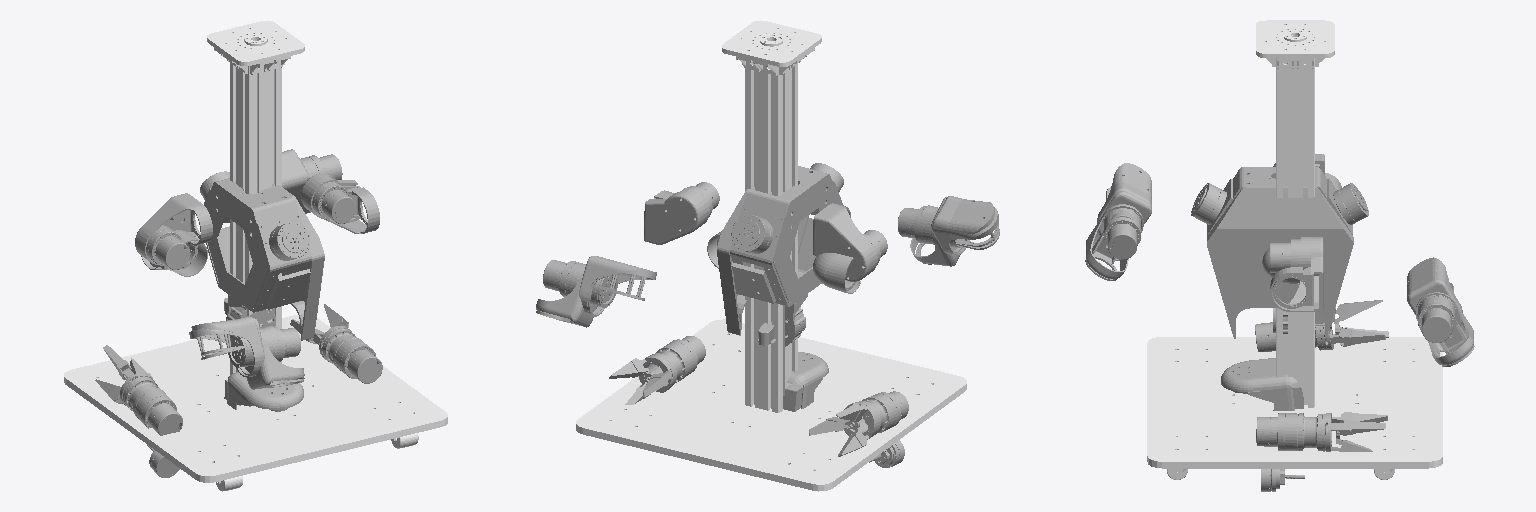
--- Facts derived from the render (not from the file) ---
3 views of the same robot in one strip: view 1: azimuth 30°, elevation 25°; view 2: azimuth 150°, elevation 25°; view 3: azimuth 270°, elevation 25° (orthographic).
Model URDF with 22 links and 21 joints (9 continuous, 12 fixed), rooted at ai, posed all joints at 0.
Visible links, largest first — view 1: ai, aia2, ail2, air2, ail7, air7, aia1, ail4, ail3, ail5, ail1, ail6; view 2: ai, aia2, ail2, air2, air7, ail7, ail5, air6, aia1, air3, ail1, ail3 (+5 smaller); view 3: ai, aia2, air7, air2, aia1, ail7, ail6, air4, ail5, air3, air6, ail4 (+2 smaller).
Boxes of the visible links, x1=… form: ai: x1=64, y1=20, x2=447, y2=491; aia2: x1=200, y1=171, x2=324, y2=340; ail2: x1=135, y1=193, x2=212, y2=269; air2: x1=301, y1=173, x2=379, y2=233; ail7: x1=95, y1=345, x2=182, y2=435; air7: x1=290, y1=304, x2=382, y2=383; aia1: x1=224, y1=372, x2=303, y2=411; ail4: x1=245, y1=326, x2=303, y2=389; ail3: x1=189, y1=316, x2=278, y2=374; ail5: x1=191, y1=318, x2=262, y2=376; ail1: x1=141, y1=230, x2=207, y2=276; ail6: x1=247, y1=326, x2=304, y2=388; ai: x1=576, y1=20, x2=966, y2=491; aia2: x1=717, y1=163, x2=843, y2=346; ail2: x1=813, y1=203, x2=887, y2=281; air2: x1=644, y1=182, x2=719, y2=244; air7: x1=609, y1=336, x2=705, y2=404; ail7: x1=809, y1=391, x2=908, y2=456; ail5: x1=931, y1=197, x2=998, y2=254; air6: x1=536, y1=260, x2=597, y2=327; aia1: x1=783, y1=352, x2=828, y2=411; air3: x1=579, y1=256, x2=650, y2=315; ail1: x1=813, y1=253, x2=860, y2=293; ail3: x1=921, y1=196, x2=999, y2=252; ai: x1=1147, y1=20, x2=1442, y2=479; aia2: x1=1191, y1=167, x2=1368, y2=338; air7: x1=1256, y1=412, x2=1387, y2=451; air2: x1=1270, y1=237, x2=1323, y2=311; aia1: x1=1221, y1=358, x2=1303, y2=410; ail7: x1=1255, y1=300, x2=1388, y2=351; ail6: x1=1085, y1=206, x2=1142, y2=280; air4: x1=1416, y1=292, x2=1469, y2=366; ail5: x1=1098, y1=163, x2=1151, y2=234; air3: x1=1408, y1=258, x2=1462, y2=334; air6: x1=1418, y1=292, x2=1474, y2=362; ail4: x1=1085, y1=204, x2=1143, y2=279.
Bounding box of the posed robot: 0.7047 × 0.7888 × 0.9228 m (x, y, z).
20 mesh visuals loaded from 22 distinct referenced files (20 binary STL); not drawn: 2 (reference not matched to a file when rendering).

robot.urdf — URDF:
<?xml version="1.0" encoding="utf-8"?>
<!-- This URDF was automatically created by SolidWorks to URDF Exporter! Originally created by Stephen Brawner ([email redacted]) 
     Commit Version: 1.6.0-4-g7f85cfe  Build Version: 1.6.7995.38578
     For more information, please see http://wiki.ros.org/sw_urdf_exporter -->
<robot
  name="URDF">
  <link
    name="ai">
    <inertial>
      <origin
        xyz="0.0096555 -0.14212 -0.038542"
        rpy="0 0 0" />
      <mass
        value="5.5457" />
      <inertia
        ixx="0.028923"
        ixy="-0.00050649"
        ixz="7.6006E-06"
        iyy="0.046711"
        iyz="0.00014985"
        izz="0.022605" />
    </inertial>
    <visual>
      <origin
        xyz="0 0 0"
        rpy="0 0 0" />
      <geometry>
        <mesh
          filename="package://URDF/meshes/ai.STL" />
      </geometry>
      <material
        name="">
        <color
          rgba="1 1 1 1" />
      </material>
    </visual>
    <collision>
      <origin
        xyz="0 0 0"
        rpy="0 0 0" />
      <geometry>
        <mesh
          filename="package://URDF/meshes/ai.STL" />
      </geometry>
    </collision>
  </link>
  <link
    name="aia1">
    <inertial>
      <origin
        xyz="0.0122165500894778 0.0631182438776054 -0.00692252450444186"
        rpy="0 0 0" />
      <mass
        value="3.50978575560884" />
      <inertia
        ixx="0.0107160246499877"
        ixy="-0.000359621582143605"
        ixz="4.07016624714828E-05"
        iyy="0.0124005795141034"
        iyz="-1.524781901073E-06"
        izz="0.012386384323181" />
    </inertial>
    <visual>
      <origin
        xyz="0 0 0"
        rpy="0 0 0" />
      <geometry>
        <mesh
          filename="package://URDF/meshes/aia1.STL" />
      </geometry>
      <material
        name="">
        <color
          rgba="0.752941176470588 0.752941176470588 0.752941176470588 1" />
      </material>
    </visual>
    <collision>
      <origin
        xyz="0 0 0"
        rpy="0 0 0" />
      <geometry>
        <mesh
          filename="package://URDF/meshes/aia1.STL" />
      </geometry>
    </collision>
  </link>
  <joint
    name="ia1"
    type="continuous">
    <origin
      xyz="-0.0079361 0.014041 -0.00022442"
      rpy="1.6815 -0.028271 0" />
    <parent
      link="ai" />
    <child
      link="aia1" />
    <axis
      xyz="0 0.99387 -0.11052" />
    <limit
      lower="0"
      upper="0"
      effort="0"
      velocity="0" />
  </joint>
  <link
    name="aia2">
    <inertial>
      <origin
        xyz="0.00275148999525586 0.0904963085395856 0.0206857738259683"
        rpy="0 0 0" />
      <mass
        value="11.5092978911004" />
      <inertia
        ixx="0.0488817529527658"
        ixy="0.000298183073814911"
        ixz="3.87850448289944E-07"
        iyy="0.0789799485369125"
        iyz="-0.00122753004573844"
        izz="0.111894811595064" />
    </inertial>
    <visual>
      <origin
        xyz="0 0 0"
        rpy="0 0 0" />
      <geometry>
        <mesh
          filename="package://URDF/meshes/aia2.STL" />
      </geometry>
      <material
        name="">
        <color
          rgba="0.752941176470588 0.752941176470588 0.752941176470588 1" />
      </material>
    </visual>
    <collision>
      <origin
        xyz="0 0 0"
        rpy="0 0 0" />
      <geometry>
        <mesh
          filename="package://URDF/meshes/aia2.STL" />
      </geometry>
    </collision>
  </link>
  <joint
    name="ia2"
    type="fixed">
    <origin
      xyz="2.93308576122722E-05 0.188056300534155 -0.0208868045568571"
      rpy="-0.110744460506445 0 0" />
    <parent
      link="aia1" />
    <child
      link="aia2" />
    <axis
      xyz="0 0 1" />
    <limit
      lower="0"
      upper="0"
      effort="0"
      velocity="0" />
  </joint>
  <link
    name="air1">
    <inertial>
      <origin
        xyz="-0.0867882598030639 0.0501262855873437 -0.00496010592416558"
        rpy="0 0 0" />
      <mass
        value="0.704319744476176" />
      <inertia
        ixx="0.00102192742218782"
        ixy="5.18316851700758E-05"
        ixz="-0.000164786809473083"
        iyy="0.00108196027992708"
        iyz="9.54818424027483E-05"
        izz="0.00117996029784948" />
    </inertial>
    <visual>
      <origin
        xyz="0 0 0"
        rpy="0 0 0" />
      <geometry>
        <mesh
          filename="package://URDF/meshes/air1.STL" />
      </geometry>
      <material
        name="">
        <color
          rgba="0.752941176470588 0.752941176470588 0.752941176470588 1" />
      </material>
    </visual>
    <collision>
      <origin
        xyz="0 0 0"
        rpy="0 0 0" />
      <geometry>
        <mesh
          filename="package://URDF/meshes/air1.STL" />
      </geometry>
    </collision>
  </link>
  <joint
    name="ir1"
    type="continuous">
    <origin
      xyz="0.0971134252482515 0.153771425983859 0"
      rpy="-3.14159265358979 0 3.14159265358978" />
    <parent
      link="aia2" />
    <child
      link="air1" />
    <axis
      xyz="0.866025403784438 -0.5 0" />
    <limit
      lower="0"
      upper="0"
      effort="0"
      velocity="0" />
  </joint>
  <link
    name="air2">
    <inertial>
      <origin
        xyz="-0.0221091585052234 -0.00947394911243532 -0.0713325927305242"
        rpy="0 0 0" />
      <mass
        value="2.16696749170869" />
      <inertia
        ixx="0.00235923373053802"
        ixy="-0.000466751355116642"
        ixz="0.00042805486522134"
        iyy="0.00351160698856537"
        iyz="0.000286782243418935"
        izz="0.00405898161391467" />
    </inertial>
    <visual>
      <origin
        xyz="0 0 0"
        rpy="0 0 0" />
      <geometry>
        <mesh
          filename="package://URDF/meshes/air2.STL" />
      </geometry>
      <material
        name="">
        <color
          rgba="0.752941176470588 0.752941176470588 0.752941176470588 1" />
      </material>
    </visual>
    <collision>
      <origin
        xyz="0 0 0"
        rpy="0 0 0" />
      <geometry>
        <mesh
          filename="package://URDF/meshes/air2.STL" />
      </geometry>
    </collision>
  </link>
  <joint
    name="ir2"
    type="continuous">
    <origin
      xyz="-0.103808135150164 0.0599336547730216 -0.00199999999999997"
      rpy="0 0 0.523598775598286" />
    <parent
      link="air1" />
    <child
      link="air2" />
    <axis
      xyz="0 0 1" />
    <limit
      lower="0"
      upper="0"
      effort="0"
      velocity="0" />
  </joint>
  <link
    name="air3">
    <inertial>
      <origin
        xyz="-0.310723078744321 0.133593457504276 -0.0460271418084565"
        rpy="0 0 0" />
      <mass
        value="2.43210030597648" />
      <inertia
        ixx="0.00318621353488848"
        ixy="-0.000704673937050692"
        ixz="-1.48997132472017E-06"
        iyy="0.00497330748293435"
        iyz="-4.62910674210498E-08"
        izz="0.00480738048481119" />
    </inertial>
    <visual>
      <origin
        xyz="0 0 0"
        rpy="0 0 0" />
      <geometry>
        <mesh
          filename="package://URDF/meshes/air3.STL" />
      </geometry>
      <material
        name="">
        <color
          rgba="0.752941176470588 0.752941176470588 0.752941176470588 1" />
      </material>
    </visual>
    <collision>
      <origin
        xyz="0 0 0"
        rpy="0 0 0" />
      <geometry>
        <mesh
          filename="package://URDF/meshes/air3.STL" />
      </geometry>
    </collision>
  </link>
  <joint
    name="ir3"
    type="fixed">
    <origin
      xyz="-0.115052758244909 -0.0312772228311444 0.274355715851498"
      rpy="-1.5707963267949 -1.0471975511966 1.0471975511966" />
    <parent
      link="air2" />
    <child
      link="air3" />
    <axis
      xyz="-0.866025403784439 0.5 0" />
    <limit
      lower="0"
      upper="0"
      effort="0"
      velocity="0" />
  </joint>
  <link
    name="air4">
    <inertial>
      <origin
        xyz="-0.306811586113211 0.0543922506429295 -0.0459893323925083"
        rpy="0 0 0" />
      <mass
        value="1.60575264215698" />
      <inertia
        ixx="0.00171417926629064"
        ixy="-0.000427404427054719"
        ixz="2.88573008654781E-07"
        iyy="0.00195481134290395"
        iyz="1.86832341871254E-07"
        izz="0.00186489394892792" />
    </inertial>
    <visual>
      <origin
        xyz="0 0 0"
        rpy="0 0 0" />
      <geometry>
        <mesh
          filename="package://URDF/meshes/air4.STL" />
      </geometry>
      <material
        name="">
        <color
          rgba="0.752941176470588 0.752941176470588 0.752941176470588 1" />
      </material>
    </visual>
    <collision>
      <origin
        xyz="0 0 0"
        rpy="0 0 0" />
      <geometry>
        <mesh
          filename="package://URDF/meshes/air4.STL" />
      </geometry>
    </collision>
  </link>
  <joint
    name="ir4"
    type="fixed">
    <origin
      xyz="0 0 0"
      rpy="0 0 0" />
    <parent
      link="air3" />
    <child
      link="air4" />
    <axis
      xyz="0.866025403784439 -0.5 0" />
    <limit
      lower="0"
      upper="0"
      effort="0"
      velocity="0" />
  </joint>
  <link
    name="air5">
    <inertial>
      <origin
        xyz="-0.400491002863523 -0.0149195507388673 -0.0460243732362791"
        rpy="0 0 0" />
      <mass
        value="2.43210030636316" />
      <inertia
        ixx="0.00318561159001296"
        ixy="-0.000704701925284907"
        ixz="-1.68124491102077E-06"
        iyy="0.00497354044938666"
        iyz="3.72017684928891E-08"
        izz="0.00480774946362265" />
    </inertial>
    <visual>
      <origin
        xyz="0 0 0"
        rpy="0 0 0" />
      <geometry>
        <mesh
          filename="package://URDF/meshes/air5.STL" />
      </geometry>
      <material
        name="">
        <color
          rgba="0.752941176470588 0.752941176470588 0.752941176470588 1" />
      </material>
    </visual>
    <collision>
      <origin
        xyz="0 0 0"
        rpy="0 0 0" />
      <geometry>
        <mesh
          filename="package://URDF/meshes/air5.STL" />
      </geometry>
    </collision>
  </link>
  <joint
    name="ir5"
    type="fixed">
    <origin
      xyz="0 0 0"
      rpy="0 0 0" />
    <parent
      link="air4" />
    <child
      link="air5" />
    <axis
      xyz="-0.866025403784439 0.5 0" />
    <limit
      lower="0"
      upper="0"
      effort="0"
      velocity="0" />
  </joint>
  <link
    name="air6">
    <inertial>
      <origin
        xyz="-0.396341248975106 -0.0942717174606415 -0.0460104212942954"
        rpy="0 0 0" />
      <mass
        value="1.60575264215694" />
      <inertia
        ixx="0.00171398866333832"
        ixy="-0.000427509349226874"
        ixz="5.8493043760927E-09"
        iyy="0.00195501969069459"
        iyz="3.26534102097182E-07"
        izz="0.00186487620408945" />
    </inertial>
    <visual>
      <origin
        xyz="0 0 0"
        rpy="0 0 0" />
      <geometry>
        <mesh
          filename="package://URDF/meshes/air6.STL" />
      </geometry>
      <material
        name="">
        <color
          rgba="0.752941176470588 0.752941176470588 0.752941176470588 1" />
      </material>
    </visual>
    <collision>
      <origin
        xyz="0 0 0"
        rpy="0 0 0" />
      <geometry>
        <mesh
          filename="package://URDF/meshes/air6.STL" />
      </geometry>
    </collision>
  </link>
  <joint
    name="ir6"
    type="fixed">
    <origin
      xyz="0 0 0"
      rpy="0 0 0" />
    <parent
      link="air5" />
    <child
      link="air6" />
    <axis
      xyz="0.866025403784439 -0.5 0" />
    <limit
      lower="0"
      upper="0"
      effort="0"
      velocity="0" />
  </joint>
  <link
    name="air7">
    <inertial>
      <origin
        xyz="-0.0728097455352885 -0.1261240051641 1.70512777112886E-05"
        rpy="0 0 0" />
      <mass
        value="2.39752294354751" />
      <inertia
        ixx="0.0012687393901073"
        ixy="0.000168151144527475"
        ixz="-3.04642830826539E-07"
        iyy="0.001463313975307"
        iyz="2.54712948479235E-07"
        izz="0.00117306166024798" />
    </inertial>
    <visual>
      <origin
        xyz="0 0 0"
        rpy="0 0 0" />
      <geometry>
        <mesh
          filename="package://URDF/meshes/air7.STL" />
      </geometry>
      <material
        name="">
        <color
          rgba="0.752941176470588 0.752941176470588 0.752941176470588 1" />
      </material>
    </visual>
    <collision>
      <origin
        xyz="0 0 0"
        rpy="0 0 0" />
      <geometry>
        <mesh
          filename="package://URDF/meshes/air7.STL" />
      </geometry>
    </collision>
  </link>
  <joint
    name="ir7"
    type="continuous">
    <origin
      xyz="-0.42328075115025 -0.0824323351551474 -0.0460000000000423"
      rpy="-1.64545323690127 -1.04598885548756 1.1118372926814" />
    <parent
      link="air6" />
    <child
      link="air7" />
    <axis
      xyz="0.499999999999995 0.866025403784442 0" />
    <limit
      lower="0"
      upper="0"
      effort="0"
      velocity="0" />
  </joint>
  <link
    name="air8">
    <inertial>
      <origin
        xyz="-0.0256124603916125 -0.0439679593331598 -9.86050862532076E-05"
        rpy="0 0 0" />
      <mass
        value="0.39028900516816" />
      <inertia
        ixx="0.00011213379731787"
        ixy="3.06765443482523E-05"
        ixz="2.44292075121941E-07"
        iyy="0.000147872106153398"
        iyz="-2.20108758996571E-07"
        izz="9.42772763134408E-05" />
    </inertial>
    <visual>
      <origin
        xyz="0 0 0"
        rpy="0 0 0" />
      <geometry>
        <mesh
          filename="package://URDF/meshes/air8.STL" />
      </geometry>
      <material
        name="">
        <color
          rgba="0.752941176470588 0.752941176470588 0.752941176470588 1" />
      </material>
    </visual>
    <collision>
      <origin
        xyz="0 0 0"
        rpy="0 0 0" />
      <geometry>
        <mesh
          filename="package://URDF/meshes/air8.STL" />
      </geometry>
    </collision>
  </link>
  <joint
    name="ir8"
    type="continuous">
    <origin
      xyz="-0.0495231049974948 -0.085776534004209 0"
      rpy="0.0186968020728057 0.0323706130972615 0.000302648714584661" />
    <parent
      link="air7" />
    <child
      link="air8" />
    <axis
      xyz="0.499999999999999 0.866025403784439 0" />
    <limit
      lower="0"
      upper="0"
      effort="0"
      velocity="0" />
  </joint>
  <link
    name="ail1">
    <inertial>
      <origin
        xyz="0.0314996586787025 0.018110986495873 -0.00495965585467567"
        rpy="0 0 0" />
      <mass
        value="0.704317483213798" />
      <inertia
        ixx="0.00102054589410166"
        ixy="-5.10348006602906E-05"
        ixz="0.000164763374924484"
        iyy="0.00108334133408607"
        iyz="9.55071581716024E-05"
        izz="0.00117995821420813" />
    </inertial>
    <visual>
      <origin
        xyz="0 0 0"
        rpy="0 0 0" />
      <geometry>
        <mesh
          filename="package://URDF/meshes/ail1.STL" />
      </geometry>
      <material
        name="">
        <color
          rgba="0.752941176470588 0.752941176470588 0.752941176470588 1" />
      </material>
    </visual>
    <collision>
      <origin
        xyz="0 0 0"
        rpy="0 0 0" />
      <geometry>
        <mesh
          filename="package://URDF/meshes/ail1.STL" />
      </geometry>
    </collision>
  </link>
  <joint
    name="il1"
    type="continuous">
    <origin
      xyz="-0.152442926705883 0.185715928544454 0"
      rpy="-3.13362768307923 -0.00459849683182837 3.14157434001486" />
    <parent
      link="aia2" />
    <child
      link="ail1" />
    <axis
      xyz="0.866025403784445 0.499999999999989 0" />
    <limit
      lower="0"
      upper="0"
      effort="0"
      velocity="0" />
  </joint>
  <link
    name="ail2">
    <inertial>
      <origin
        xyz="0.0254230133562362 -0.00487000210777616 -0.0731799326032108"
        rpy="0 0 0" />
      <mass
        value="2.16696451297082" />
      <inertia
        ixx="0.00236378749188235"
        ixy="0.000462102165751906"
        ixz="-0.000439308791472968"
        iyy="0.00351556883965291"
        iyz="0.000293029666338872"
        izz="0.00405037989081645" />
    </inertial>
    <visual>
      <origin
        xyz="0 0 0"
        rpy="0 0 0" />
      <geometry>
        <mesh
          filename="package://URDF/meshes/ail2.STL" />
      </geometry>
      <material
        name="">
        <color
          rgba="0.752941176470588 0.752941176470588 0.752941176470588 1" />
      </material>
    </visual>
    <collision>
      <origin
        xyz="0 0 0"
        rpy="0 0 0" />
      <geometry>
        <mesh
          filename="package://URDF/meshes/ail2.STL" />
      </geometry>
    </collision>
  </link>
  <joint
    name="il2"
    type="continuous">
    <origin
      xyz="0.0433012701892223 0.0249999999999994 0"
      rpy="0.00336630175696954 -0.00336635386910309 -0.52358329515933" />
    <parent
      link="ail1" />
    <child
      link="ail2" />
    <axis
      xyz="0.00459848062507821 -0.00796480208025818 -0.999957707057535" />
    <limit
      lower="0"
      upper="0"
      effort="0"
      velocity="0" />
  </joint>
  <link
    name="ail3">
    <inertial>
      <origin
        xyz="0.282115881288905 0.123680479739269 -0.0449326076320535"
        rpy="0 0 0" />
      <mass
        value="1.74913628400847" />
      <inertia
        ixx="0.00291267479222441"
        ixy="-0.000273526909035704"
        ixz="2.77544209116255E-06"
        iyy="0.00192837816529404"
        iyz="4.02456722990272E-06"
        izz="0.00267897419074648" />
    </inertial>
    <visual>
      <origin
        xyz="0 0 0"
        rpy="0 0 0" />
      <geometry>
        <mesh
          filename="package://URDF/meshes/ail3.STL" />
      </geometry>
      <material
        name="">
        <color
          rgba="0.752941176470588 0.752941176470588 0.752941176470588 1" />
      </material>
    </visual>
    <collision>
      <origin
        xyz="0 0 0"
        rpy="0 0 0" />
      <geometry>
        <mesh
          filename="package://URDF/meshes/ail3.STL" />
      </geometry>
    </collision>
  </link>
  <joint
    name="il3"
    type="fixed">
    <origin
      xyz="0.0407134685302632 -0.0746066995021419 -0.363589645435843"
      rpy="1.5706244129294 -1.0563942468247 -1.03785118325407" />
    <parent
      link="ail2" />
    <child
      link="ail3" />
    <axis
      xyz="-0.866025403784446 -0.499999999999988 0" />
    <limit
      lower="0"
      upper="0"
      effort="0"
      velocity="0" />
  </joint>
  <link
    name="ail4">
    <inertial>
      <origin
        xyz="0.351023016424299 0.0796276581927194 -0.0419538130734384"
        rpy="0 0 0" />
      <mass
        value="1.6057526420519" />
      <inertia
        ixx="0.00226389095320379"
        ixy="0.000108089324605775"
        ixz="1.47115061675745E-05"
        iyy="0.00141181624420584"
        iyz="6.39817759898937E-05"
        izz="0.0018581773606691" />
    </inertial>
    <visual>
      <origin
        xyz="0 0 0"
        rpy="0 0 0" />
      <geometry>
        <mesh
          filename="package://URDF/meshes/ail4.STL" />
      </geometry>
      <material
        name="">
        <color
          rgba="0.752941176470588 0.752941176470588 0.752941176470588 1" />
      </material>
    </visual>
    <collision>
      <origin
        xyz="0 0 0"
        rpy="0 0 0" />
      <geometry>
        <mesh
          filename="package://URDF/meshes/ail4.STL" />
      </geometry>
    </collision>
  </link>
  <joint
    name="il4"
    type="fixed">
    <origin
      xyz="0.00332392501798523 -0.00575720701169549 0.0114072634871511"
      rpy="0.114900076489375 0.066095305063605 0.00380274076774772" />
    <parent
      link="ail3" />
    <child
      link="ail4" />
    <axis
      xyz="0.866025403784445 0.499999999999989 0" />
    <limit
      lower="0"
      upper="0"
      effort="0"
      velocity="0" />
  </joint>
  <link
    name="ail5">
    <inertial>
      <origin
        xyz="0.365243125976542 -0.0273001624763137 -0.0277409109306254"
        rpy="0 0 0" />
      <mass
        value="1.74913628404884" />
      <inertia
        ixx="0.00290920090084644"
        ixy="-0.000273029467014606"
        ixz="4.96572447315667E-05"
        iyy="0.00193706948379787"
        iyz="7.14721881758528E-05"
        izz="0.00267375676364664" />
    </inertial>
    <visual>
      <origin
        xyz="0 0 0"
        rpy="0 0 0" />
      <geometry>
        <mesh
          filename="package://URDF/meshes/ail5.STL" />
      </geometry>
      <material
        name="">
        <color
          rgba="0.752941176470588 0.752941176470588 0.752941176470588 1" />
      </material>
    </visual>
    <collision>
      <origin
        xyz="0 0 0"
        rpy="0 0 0" />
      <geometry>
        <mesh
          filename="package://URDF/meshes/ail5.STL" />
      </geometry>
    </collision>
  </link>
  <joint
    name="il5"
    type="fixed">
    <origin
      xyz="0 0 0"
      rpy="0 0 0" />
    <parent
      link="ail4" />
    <child
      link="ail5" />
    <axis
      xyz="-0.866025403784445 -0.499999999999989 0" />
    <limit
      lower="0"
      upper="0"
      effort="0"
      velocity="0" />
  </joint>
  <link
    name="ail6">
    <inertial>
      <origin
        xyz="0.434125405565277 -0.0707158587875069 -0.0174324289754678"
        rpy="0 0 0" />
      <mass
        value="1.60575264205192" />
      <inertia
        ixx="0.00226373417300943"
        ixy="0.00010817350650982"
        ixz="1.50126202145728E-05"
        iyy="0.00141199497011959"
        iyz="6.41374228031122E-05"
        izz="0.00185815541494991" />
    </inertial>
    <visual>
      <origin
        xyz="0 0 0"
        rpy="0 0 0" />
      <geometry>
        <mesh
          filename="package://URDF/meshes/ail6.STL" />
      </geometry>
      <material
        name="">
        <color
          rgba="0.752941176470588 0.752941176470588 0.752941176470588 1" />
      </material>
    </visual>
    <collision>
      <origin
        xyz="0 0 0"
        rpy="0 0 0" />
      <geometry>
        <mesh
          filename="package://URDF/meshes/ail6.STL" />
      </geometry>
    </collision>
  </link>
  <joint
    name="il6"
    type="fixed">
    <origin
      xyz="0 0 0"
      rpy="0 0 0" />
    <parent
      link="ail5" />
    <child
      link="ail6" />
    <axis
      xyz="0.866025403784445 0.499999999999989 0" />
    <limit
      lower="0"
      upper="0"
      effort="0"
      velocity="0" />
  </joint>
  <link
    name="ail7">
    <inertial>
      <origin
        xyz="0.0739381474324043 -0.128044988477842 0.021106946539547"
        rpy="0 0 0" />
      <mass
        value="2.39752294323106" />
      <inertia
        ixx="0.00126717765655056"
        ixy="-0.000164993865319654"
        ixz="2.68480277280964E-05"
        iyy="0.0014572099241612"
        iyz="-4.69354826547216E-05"
        izz="0.00118072744415879" />
    </inertial>
    <visual>
      <origin
        xyz="0 0 0"
        rpy="0 0 0" />
      <geometry>
        <mesh
          filename="package://URDF/meshes/ail7.STL" />
      </geometry>
      <material
        name="">
        <color
          rgba="0.752941176470588 0.752941176470588 0.752941176470588 1" />
      </material>
    </visual>
    <collision>
      <origin
        xyz="0 0 0"
        rpy="0 0 0" />
      <geometry>
        <mesh
          filename="package://URDF/meshes/ail7.STL" />
      </geometry>
    </collision>
  </link>
  <joint
    name="il7"
    type="continuous">
    <origin
      xyz="0.408546942555018 -0.0849126300792067 -0.0175147453415777"
      rpy="1.61198579544075 -1.1922390817189 -0.940140876488344" />
    <parent
      link="ail6" />
    <child
      link="ail7" />
    <axis
      xyz="0.494990176923062 -0.857348135678236 0.141205166331579" />
    <limit
      lower="0"
      upper="0"
      effort="0"
      velocity="0" />
  </joint>
  <link
    name="ail8">
    <inertial>
      <origin
        xyz="0.0269437270629207 -0.0470874606369525 0.00766989354287182"
        rpy="0 0 0" />
      <mass
        value="0.390288998297731" />
      <inertia
        ixx="0.000112053790394088"
        ixy="-3.01367475415813E-05"
        ixz="5.25911607778448E-06"
        iyy="0.000146608603022263"
        iyz="-8.52751984598756E-06"
        izz="9.56207847430063E-05" />
    </inertial>
    <visual>
      <origin
        xyz="0 0 0"
        rpy="0 0 0" />
      <geometry>
        <mesh
          filename="package://URDF/meshes/ail8.STL" />
      </geometry>
      <material
        name="">
        <color
          rgba="0.752941176470588 0.752941176470588 0.752941176470588 1" />
      </material>
    </visual>
    <collision>
      <origin
        xyz="0 0 0"
        rpy="0 0 0" />
      <geometry>
        <mesh
          filename="package://URDF/meshes/ail8.STL" />
      </geometry>
    </collision>
  </link>
  <joint
    name="il8"
    type="continuous">
    <origin
      xyz="0.048937841024224 -0.0847628270666956 0.0139604305376125"
      rpy="0 0 0" />
    <parent
      link="ail7" />
    <child
      link="ail8" />
    <axis
      xyz="0.494990176923058 -0.85734813567823 0.141205166331628" />
    <limit
      lower="0"
      upper="0"
      effort="0"
      velocity="0" />
  </joint>
  <link
    name="ait1">
    <inertial>
      <origin
        xyz="-0.000307397427263539 0.324641073766468 -0.00484151936474227"
        rpy="0 0 0" />
      <mass
        value="0.611983625806655" />
      <inertia
        ixx="0.000142242831213401"
        ixy="-2.10570916942322E-06"
        ixz="-1.77538627897098E-05"
        iyy="0.000131726125327013"
        iyz="6.57970153029082E-06"
        izz="0.000231967152519603" />
    </inertial>
    <visual>
      <origin
        xyz="0 0 0"
        rpy="0 0 0" />
      <geometry>
        <mesh
          filename="package://URDF/meshes/ait1.STL" />
      </geometry>
      <material
        name="">
        <color
          rgba="0.752941176470588 0.752941176470588 0.752941176470588 1" />
      </material>
    </visual>
    <collision>
      <origin
        xyz="0 0 0"
        rpy="0 0 0" />
      <geometry>
        <mesh
          filename="package://URDF/meshes/ait1.STL" />
      </geometry>
    </collision>
  </link>
  <joint
    name="it1"
    type="fixed">
    <origin
      xyz="0.00112486283996327 -0.0480860764694512 -0.000106386203830956"
      rpy="0 0.188593113474649 0" />
    <parent
      link="aia2" />
    <child
      link="ait1" />
    <axis
      xyz="-0.187477139999061 0 0.982268966209242" />
    <limit
      lower="0"
      upper="0"
      effort="0"
      velocity="0" />
  </joint>
  <link
    name="ait2">
    <inertial>
      <origin
        xyz="-0.000943686341580841 0.378308198594552 -0.000929018528262373"
        rpy="0 0 0" />
      <mass
        value="0.671346877284216" />
      <inertia
        ixx="0.000303697331372261"
        ixy="-8.54102017564623E-06"
        ixz="6.97816072501396E-06"
        iyy="0.000152665146008923"
        iyz="-1.15227587359721E-05"
        izz="0.000207639618916554" />
    </inertial>
    <visual>
      <origin
        xyz="0 0 0"
        rpy="0 0 0" />
      <geometry>
        <mesh
          filename="package://URDF/meshes/ait2.STL" />
      </geometry>
      <material
        name="">
        <color
          rgba="0.752941176470588 0.752941176470588 0.752941176470588 1" />
      </material>
    </visual>
    <collision>
      <origin
        xyz="0 0 0"
        rpy="0 0 0" />
      <geometry>
        <mesh
          filename="package://URDF/meshes/ait2.STL" />
      </geometry>
    </collision>
  </link>
  <joint
    name="it2"
    type="fixed">
    <origin
      xyz="0 0 0"
      rpy="0 0 0" />
    <parent
      link="ait1" />
    <child
      link="ait2" />
    <axis
      xyz="0.18747713999906 0 -0.982268966209238" />
    <limit
      lower="0"
      upper="0"
      effort="0"
      velocity="0" />
  </joint>
  <link
    name="ait3">
    <inertial>
      <origin
        xyz="-0.00644149463597838 0.38223344356688 0.0441309869046198"
        rpy="0 0 0" />
      <mass
        value="0.574503209026248" />
      <inertia
        ixx="8.53228275097162E-05"
        ixy="-1.25149812817838E-08"
        ixz="-3.64119412309265E-05"
        iyy="0.000337670531632764"
        iyz="6.55710766381567E-08"
        izz="0.000312677588147166" />
    </inertial>
    <visual>
      <origin
        xyz="0 0 0"
        rpy="0 0 0" />
      <geometry>
        <mesh
          filename="package://URDF/meshes/ait3.STL" />
      </geometry>
      <material
        name="">
        <color
          rgba="0.752941176470588 0.752941176470588 0.752941176470588 1" />
      </material>
    </visual>
    <collision>
      <origin
        xyz="0 0 0"
        rpy="0 0 0" />
      <geometry>
        <mesh
          filename="package://URDF/meshes/ait3.STL" />
      </geometry>
    </collision>
  </link>
  <joint
    name="it3"
    type="fixed">
    <origin
      xyz="0 0 0"
      rpy="0 0 0" />
    <parent
      link="ait2" />
    <child
      link="ait3" />
    <axis
      xyz="0.187477139999061 0 -0.982268966209242" />
    <limit
      lower="0"
      upper="0"
      effort="0"
      velocity="0" />
  </joint>
</robot>
